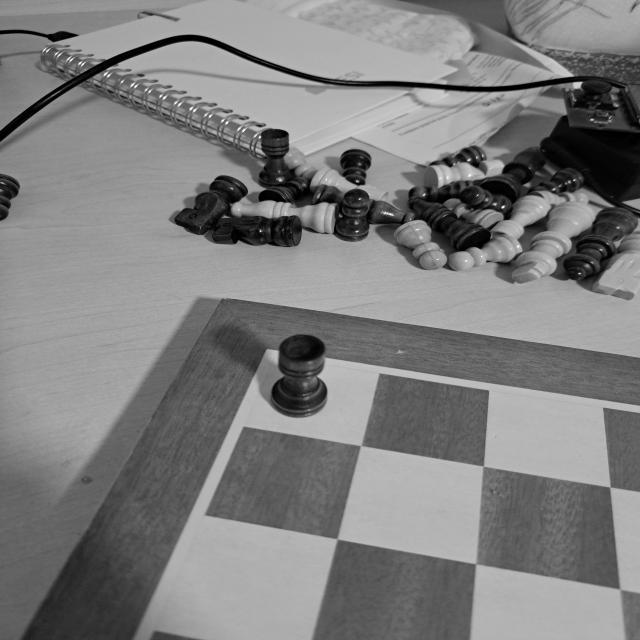chess-table-corners: (256, 341, 276, 356)
